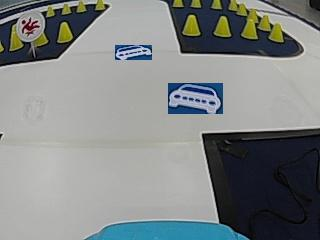cone: (182, 14, 200, 36), (214, 16, 231, 37), (241, 18, 257, 39), (57, 21, 72, 42), (268, 22, 283, 42), (9, 29, 21, 51), (258, 14, 271, 31), (237, 2, 247, 16), (45, 5, 55, 18), (76, 1, 86, 13), (61, 3, 71, 15), (210, 0, 222, 10), (95, 0, 104, 10), (172, 0, 183, 8), (190, 0, 201, 8)
tumble: (18, 12, 43, 39)
